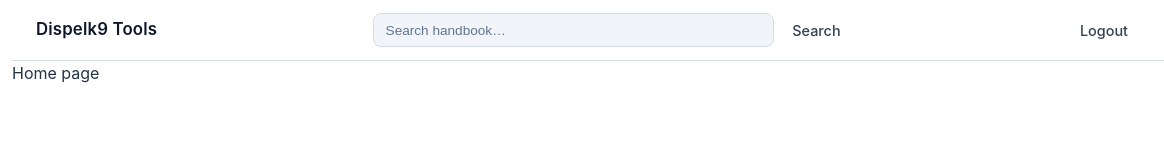
Scenario: components/Navbar.tsx › shows an error message when logout fails
Click the button "Logout" at x=1104, y=30, box [1068,22,1140,38]
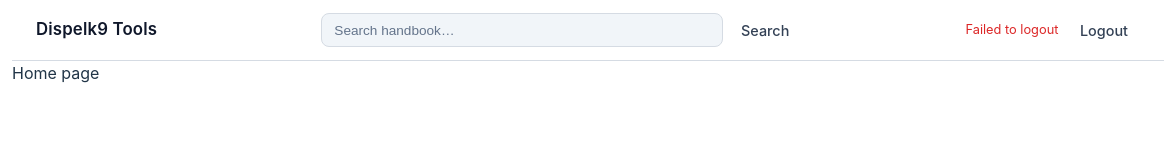
Expected: the text "Failed to logout" is shown, [966,20,1058,40]
